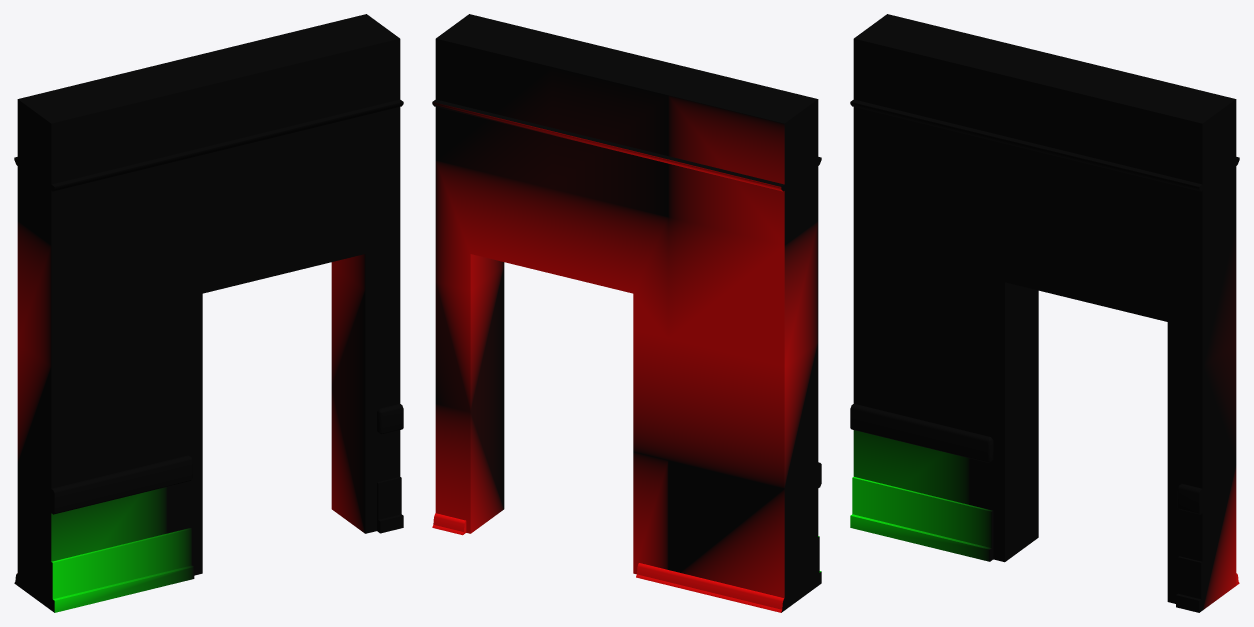
File: SM_DoorKit_3m_01b.fbx
3 renders of one model, left to right at view 1: azimuth 30°, elevation 25°; view 2: azimuth 150°, elevation 25°; view 3: azimuth 330°, elevation 25°, orthographic.
Visible parts, largest first — view 1: SM_DoorKit_3m_01b_LOD0; view 2: SM_DoorKit_3m_01b_LOD0; view 3: SM_DoorKit_3m_01b_LOD0.
Boxes of the visible parts, x1=… form: SM_DoorKit_3m_01b_LOD0: x1=14, y1=14, x2=403, y2=612; SM_DoorKit_3m_01b_LOD0: x1=432, y1=14, x2=821, y2=612; SM_DoorKit_3m_01b_LOD0: x1=850, y1=14, x2=1239, y2=612.
Size of the model in its own units: 300 by 60 by 400.
